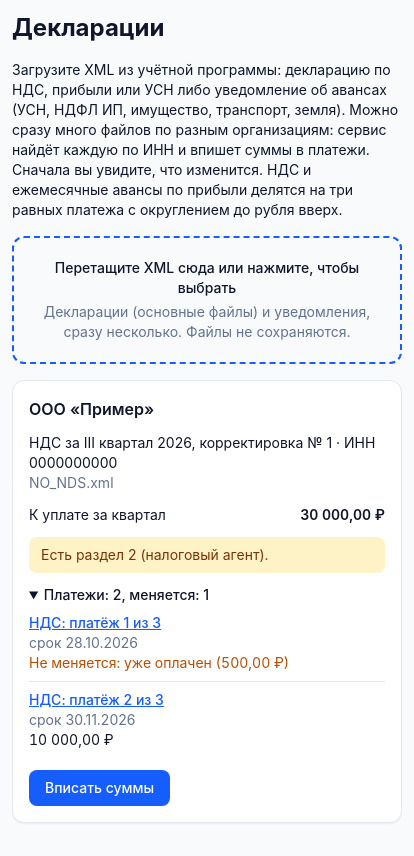
загрузка декларации › показывает изменения и записывает суммы только по кнопке
Earlier steps of the test are not shown.
Expected: the heading "ООО «Пример»" is shown, [29,399,154,419]
Expected: the text "III квартал 2026, корректировка № 1" is shown, [29,433,385,493]
What coordinates should you click on to do the following:
click the button "Вписать суммы"
I would click on:
 (100, 788)
Its box is [29,770,170,806].
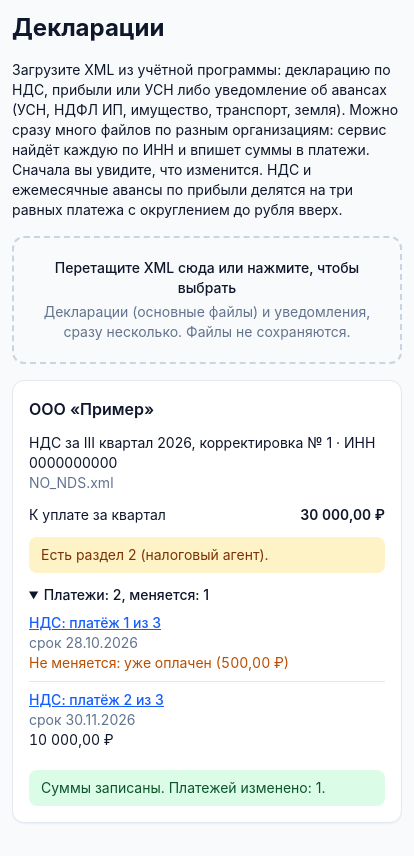
Now the text "Суммы записаны. Платежей изменено: 1." is shown, box [29,770,385,806]
Now the button "Вписать суммы" is gone
